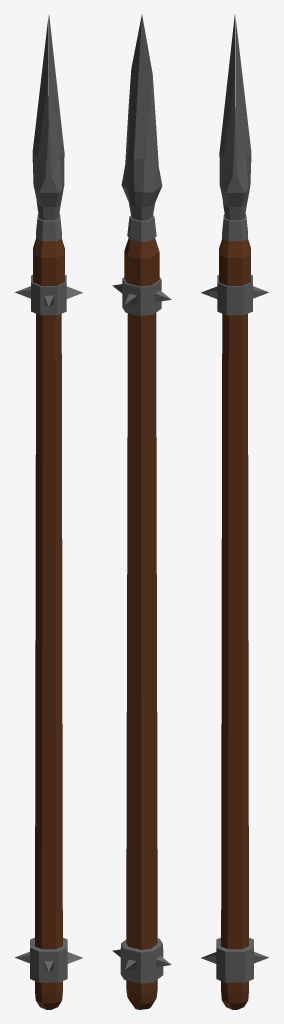
Rendered from Low_Poly_spear.fbx.
The picture shows the model from 3 angles, left to right: view 1: azimuth 90°, elevation 25°; view 2: azimuth 150°, elevation 25°; view 3: azimuth 270°, elevation 25°; orthographic projection.
Visible parts, largest first — view 1: Cube; view 2: Cube; view 3: Cube.
Part boxes in pixels (left/top/right/bottom): Cube: left=15, top=14, right=82, bottom=1009; Cube: left=112, top=14, right=171, bottom=1009; Cube: left=201, top=14, right=268, bottom=1009.
Size of the model in its own units: 30.88 by 490 by 30.88.
